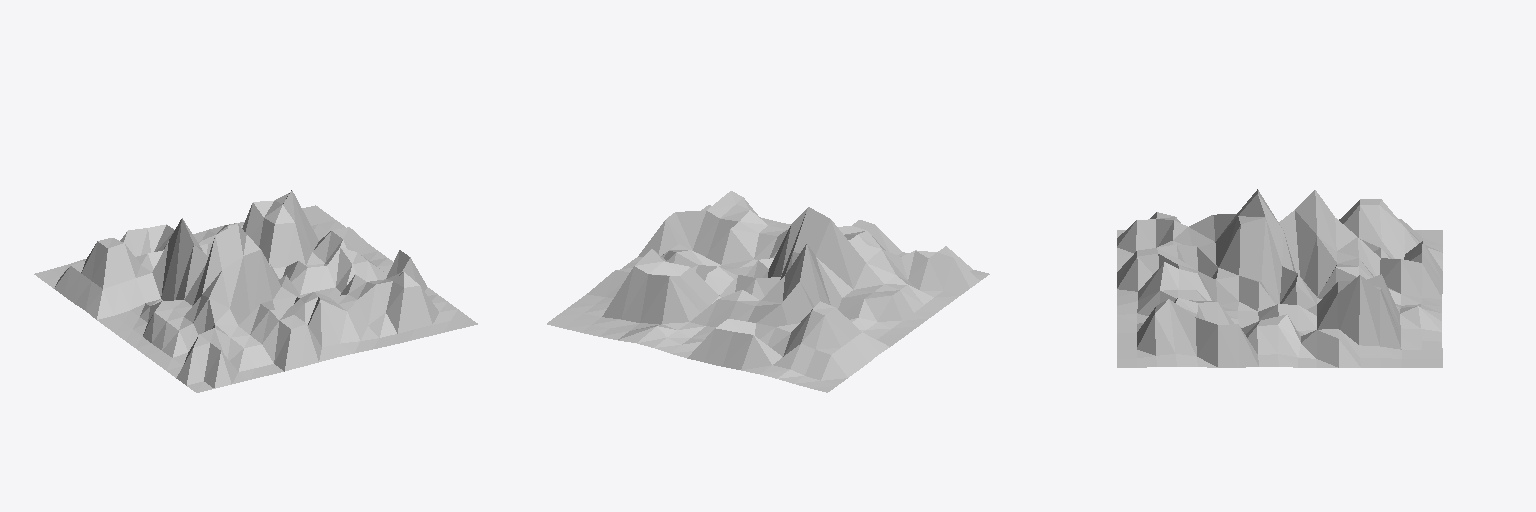
File: Border.obj
3 views of the same model, side by side, from view 1: azimuth 30°, elevation 25°; view 2: azimuth 150°, elevation 25°; view 3: azimuth 270°, elevation 25° (orthographic).
Visible parts, largest first — view 1: Plane; view 2: Plane; view 3: Plane.
Boxes of the visible parts, x1,y1,x2,y2 form: Plane: [34, 190, 477, 392]; Plane: [547, 191, 989, 392]; Plane: [1117, 189, 1442, 367].
Bounding box in the file's own units: 100 × 32.67 × 100.